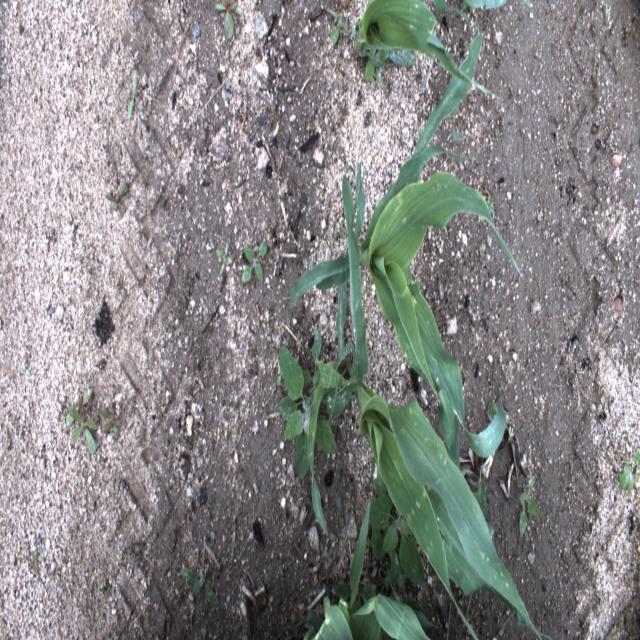crop: (334, 157, 548, 639), (354, 80, 518, 471), (304, 501, 430, 639), (350, 1, 501, 101), (286, 254, 348, 305), (310, 476, 330, 541), (462, 23, 482, 71), (462, 0, 509, 14)
weed: (277, 334, 337, 479), (364, 472, 428, 589), (177, 549, 221, 604), (516, 478, 545, 541), (70, 386, 95, 454), (210, 0, 244, 47), (240, 242, 267, 284), (363, 52, 388, 97), (617, 450, 640, 495), (106, 173, 131, 214), (30, 540, 46, 592), (122, 74, 139, 120), (326, 19, 345, 53), (216, 242, 233, 279), (104, 404, 120, 441), (21, 364, 38, 382), (99, 582, 110, 601)
